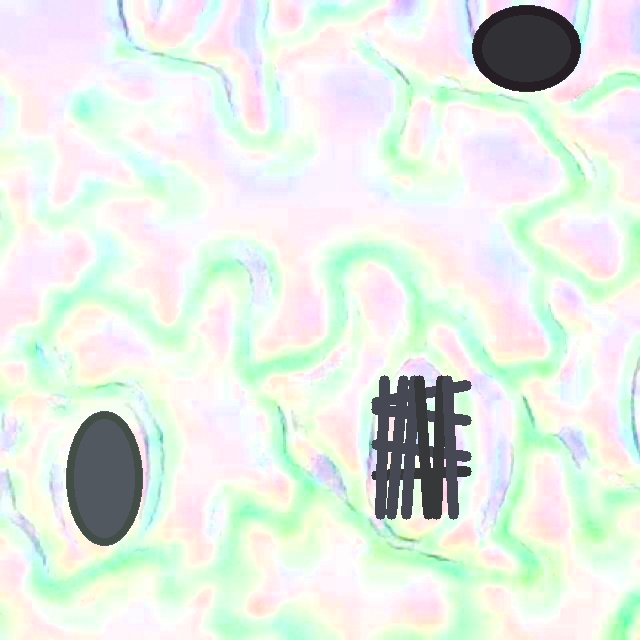open: (372, 375, 470, 518), (67, 411, 141, 544), (472, 5, 581, 91)
